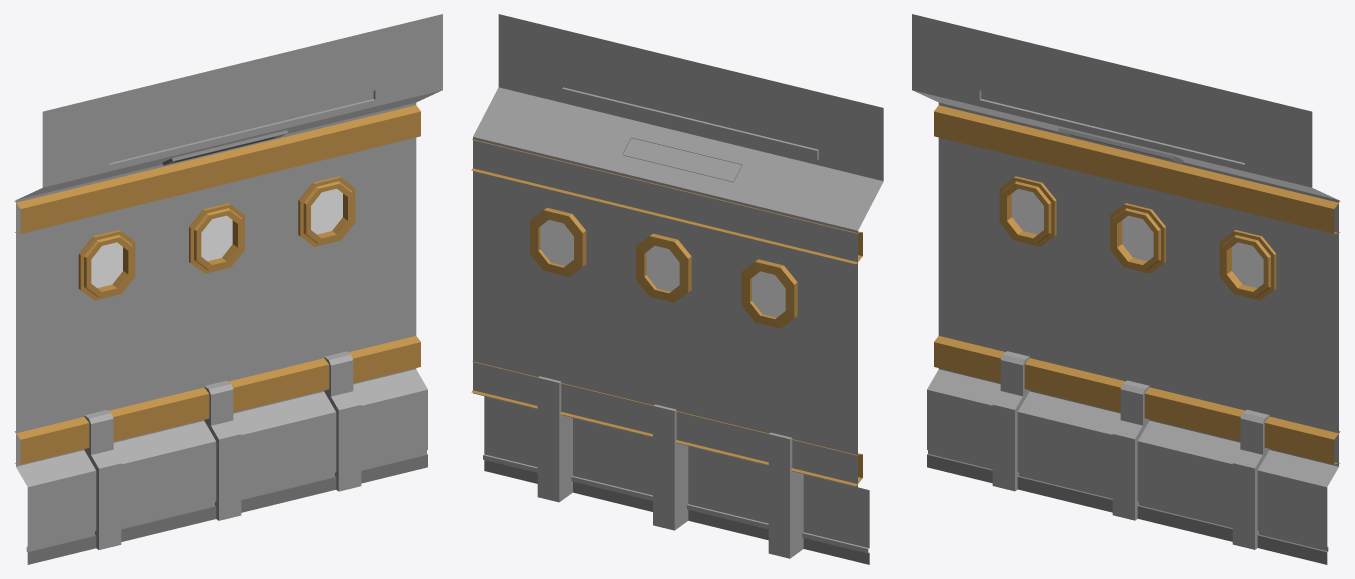
File: SmallWindows_Wall_SideB.glb
3 views of the same model, side by side, from view 1: azimuth 30°, elevation 25°; view 2: azimuth 150°, elevation 25°; view 3: azimuth 330°, elevation 25° (orthographic). The views are drawn at different scales.
Parts seen in each view (by area): view 1: SmallWindows_Wall_SideB; view 2: SmallWindows_Wall_SideB; view 3: SmallWindows_Wall_SideB.
Boxes of the visible parts, left/top/right/bottom form: SmallWindows_Wall_SideB: left=14, top=14, right=442, bottom=564; SmallWindows_Wall_SideB: left=471, top=14, right=883, bottom=564; SmallWindows_Wall_SideB: left=912, top=14, right=1340, bottom=564.
Bounding box in the file's own units: 4 × 4.43 × 0.526.
